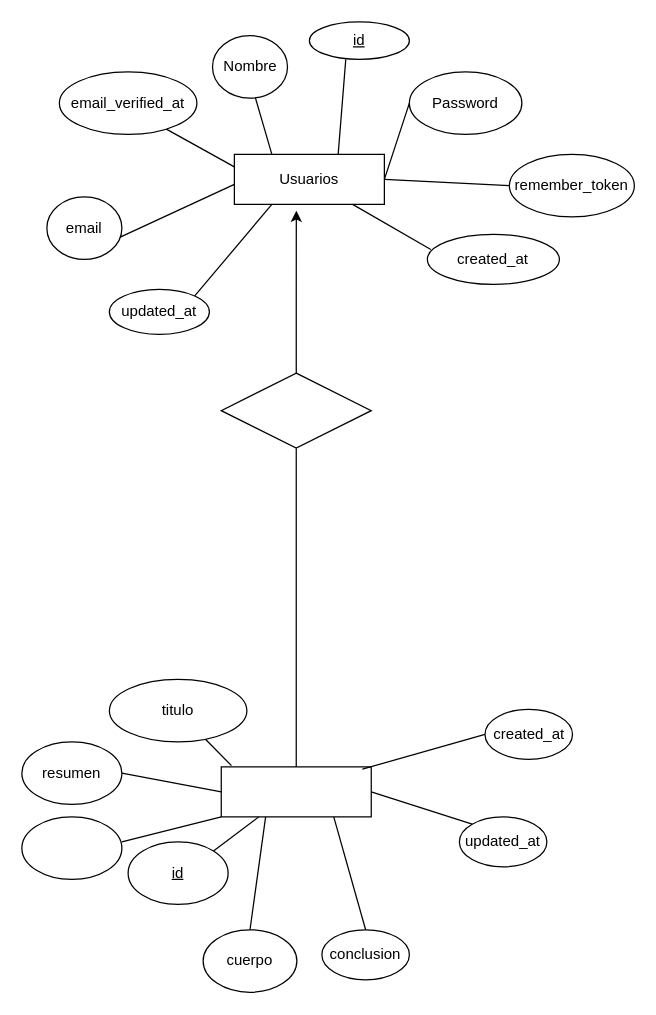
The diagram is 656 pixels wide and 1015 high, and some of its shapes have lost their labels. Each missing label, with the centre of its shape:
"introduccion" goes at pixel 71 847.
"Posts" goes at pixel 295 791.
"Tiene" goes at pixel 295 410.
